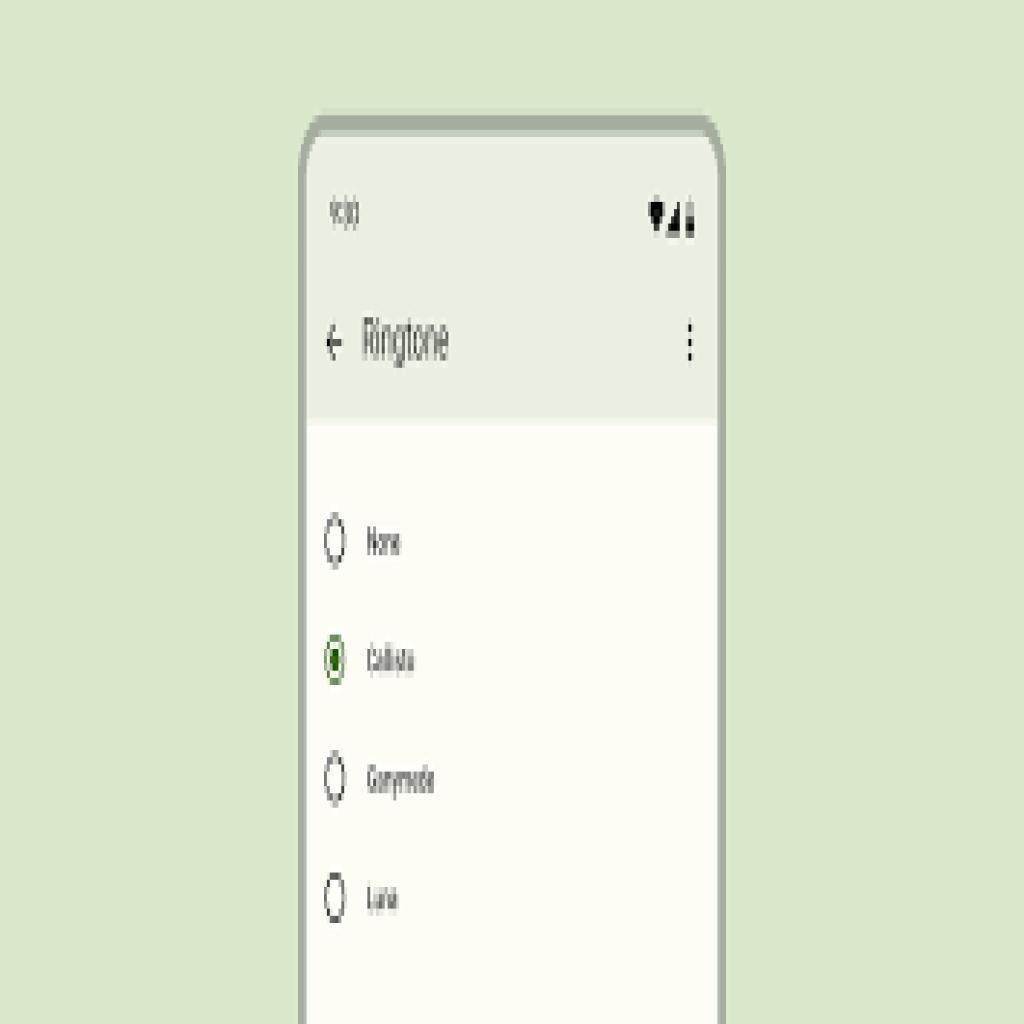icon: (321, 321, 347, 362), (680, 321, 701, 371)
label: (360, 313, 455, 371), (363, 759, 438, 803), (359, 636, 420, 681), (361, 523, 406, 561), (361, 877, 403, 915)
radio: (319, 740, 350, 827), (321, 861, 350, 943), (319, 507, 354, 572), (322, 624, 350, 691)
